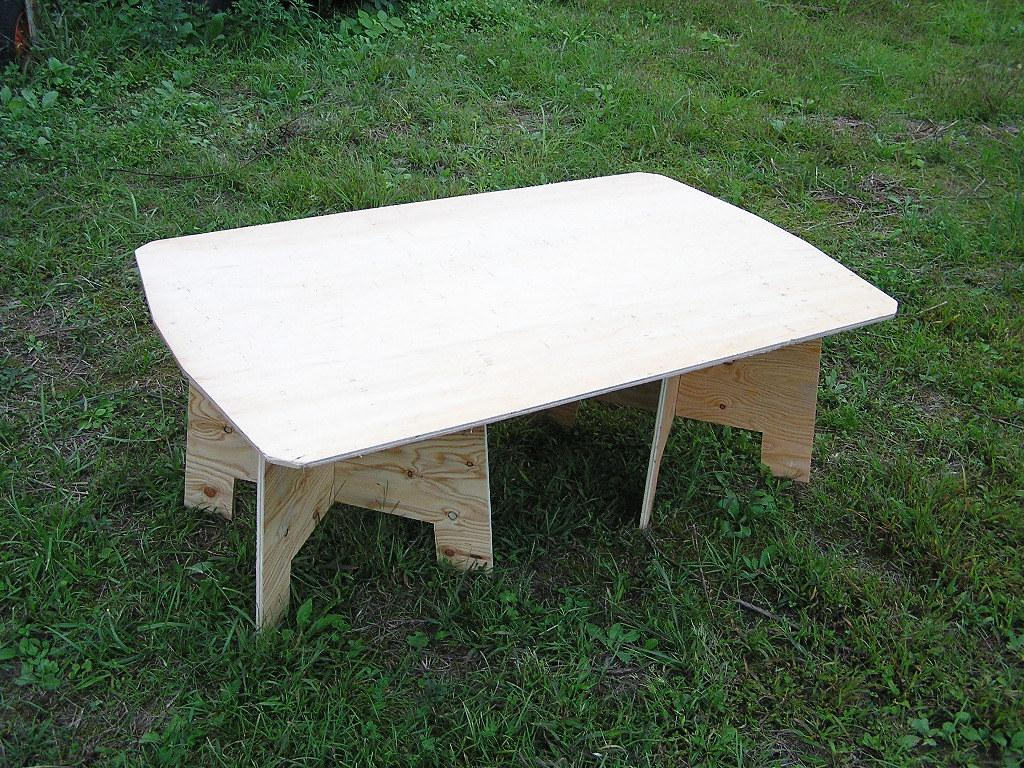table: (135, 170, 899, 634)
